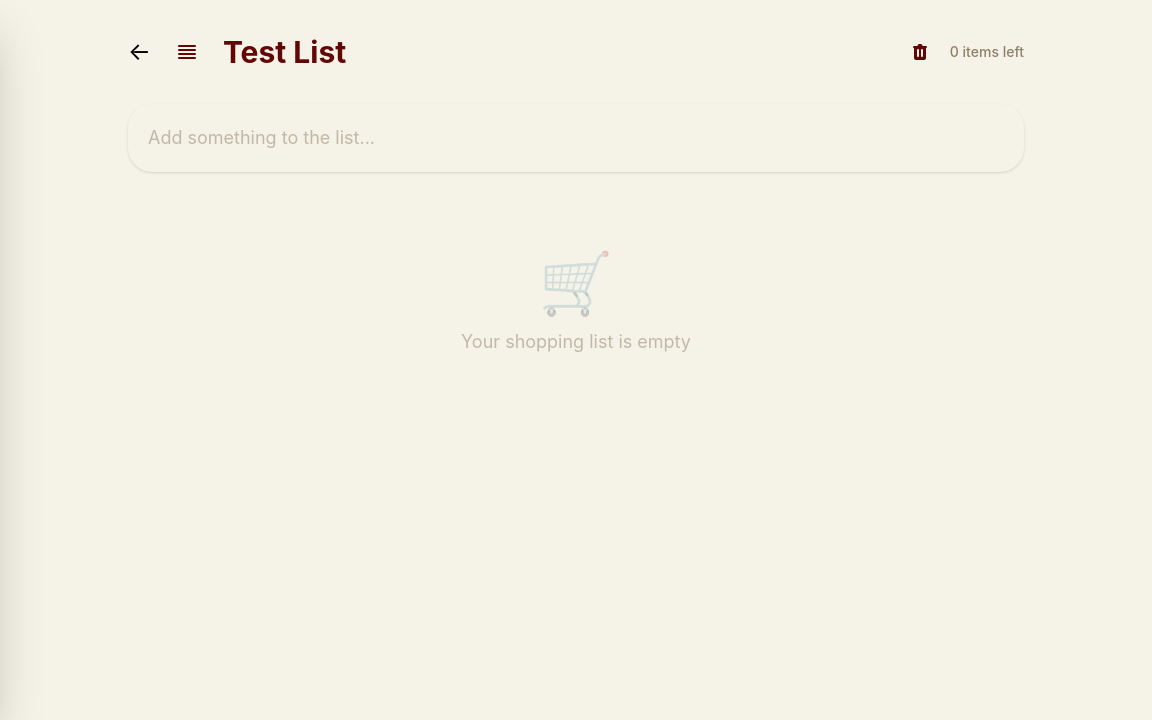
Scenario: Shopping Hub — integration flows › create item → appears in list
Type "milk" into the field with placeholder "Add something to the list...". click: (576,138)
box: [128,104,1024,172]
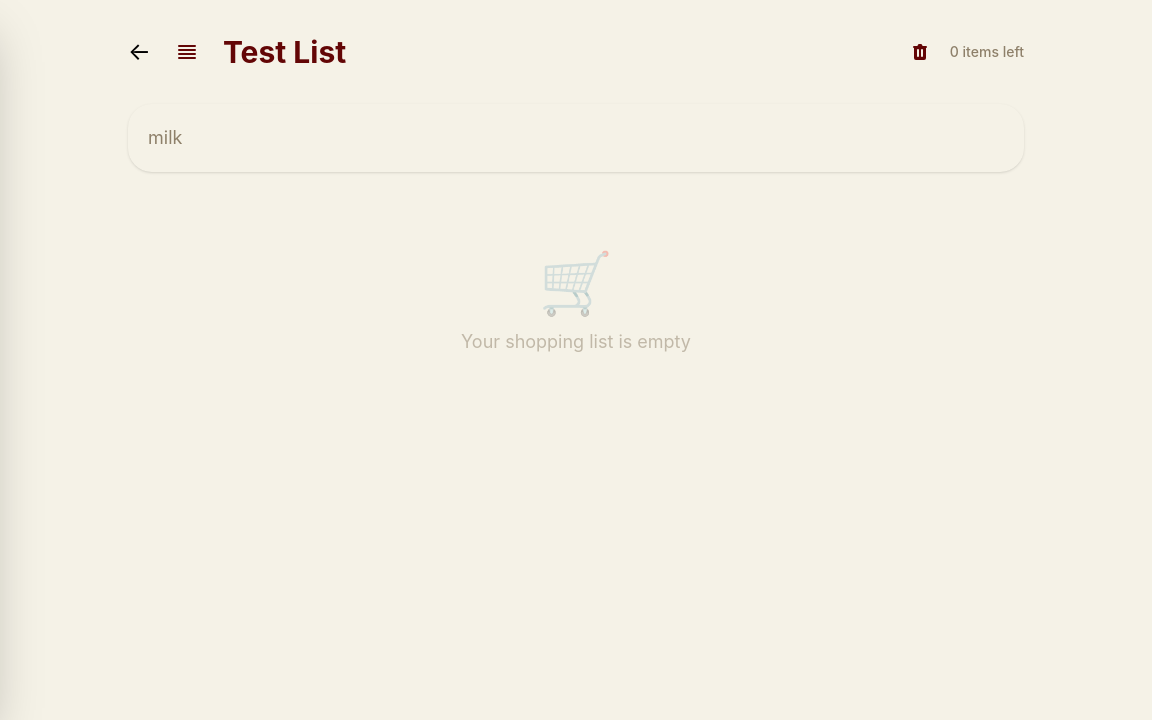
Submit the form with placeholder "add", box [128,104,1024,172]
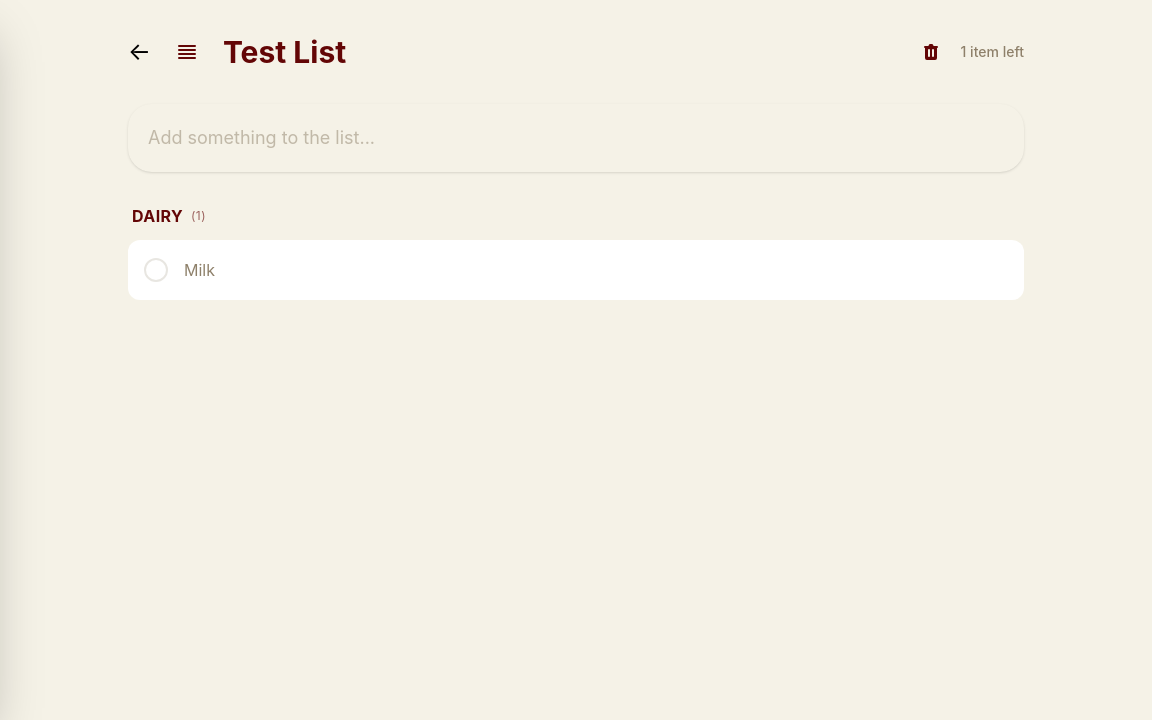
Now the text "Milk" is shown, box [184,260,215,280]
